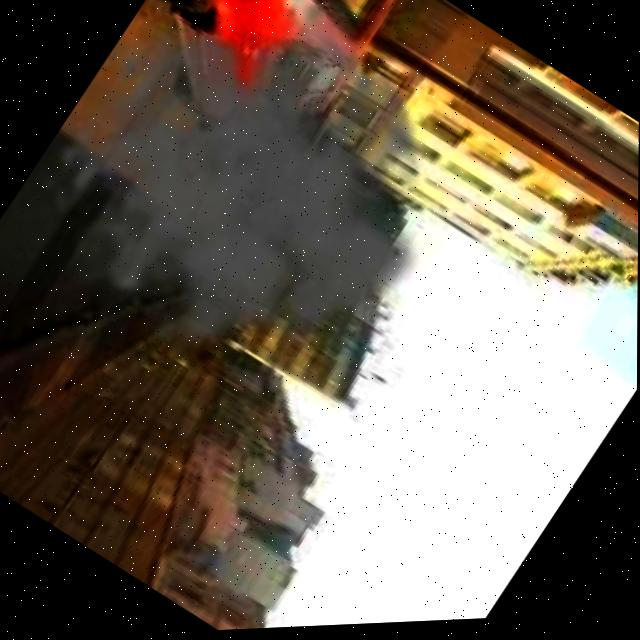Smoke: (0, 0, 523, 454)
